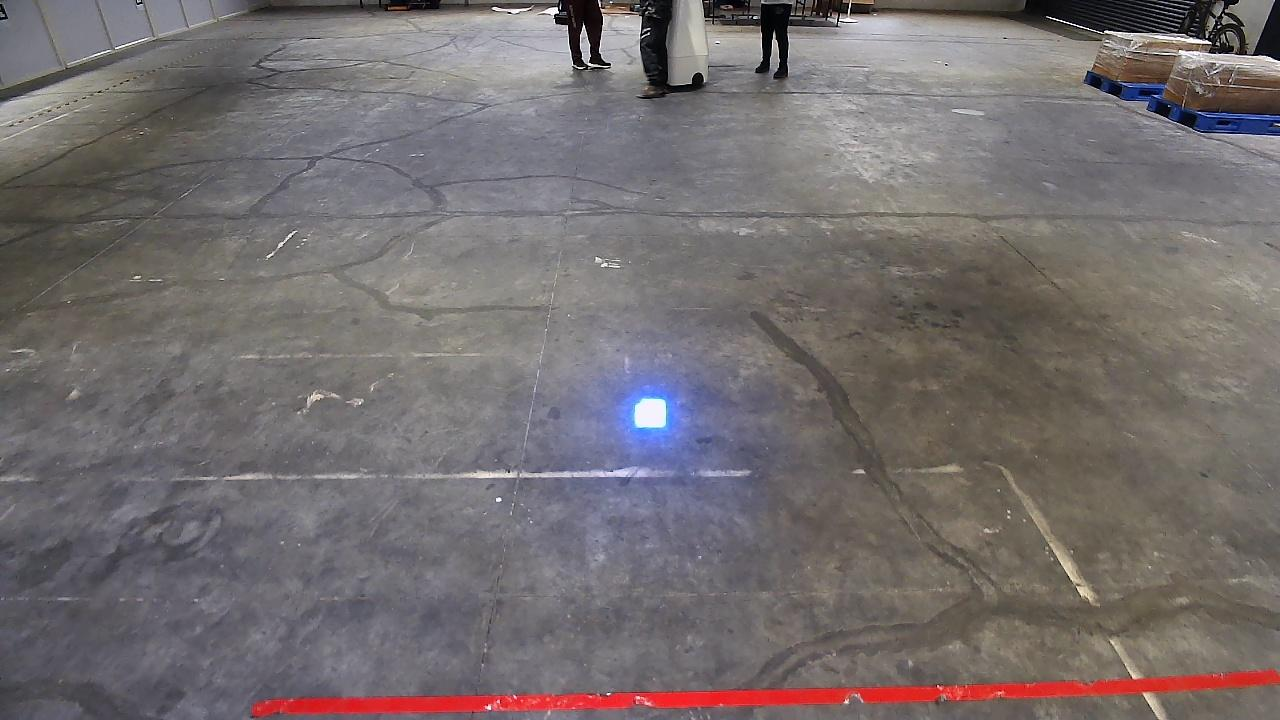red_line: (250, 668, 1280, 715)
